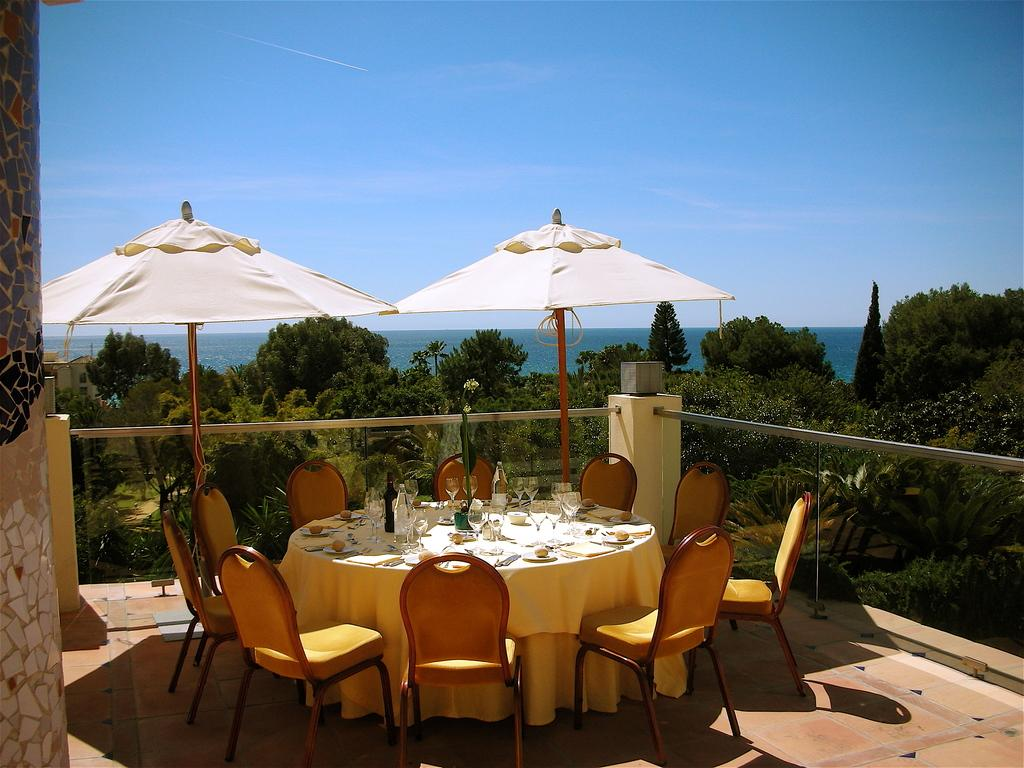umbrella: (38, 199, 394, 597)
